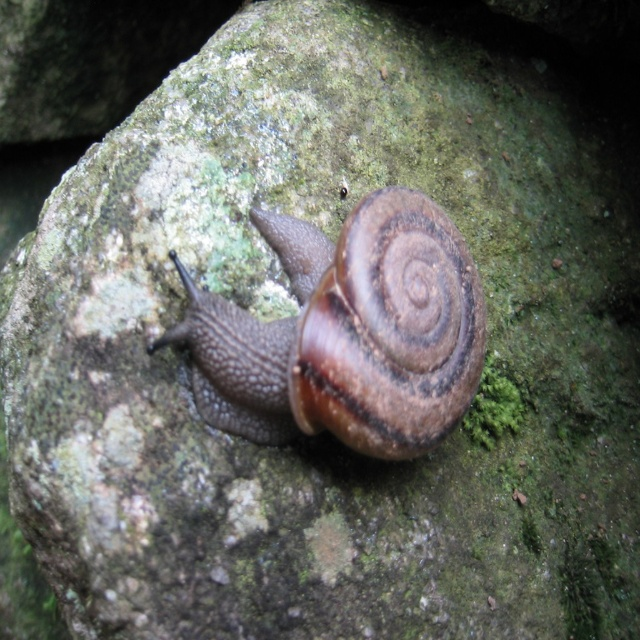Snail: (139, 181, 490, 476)
